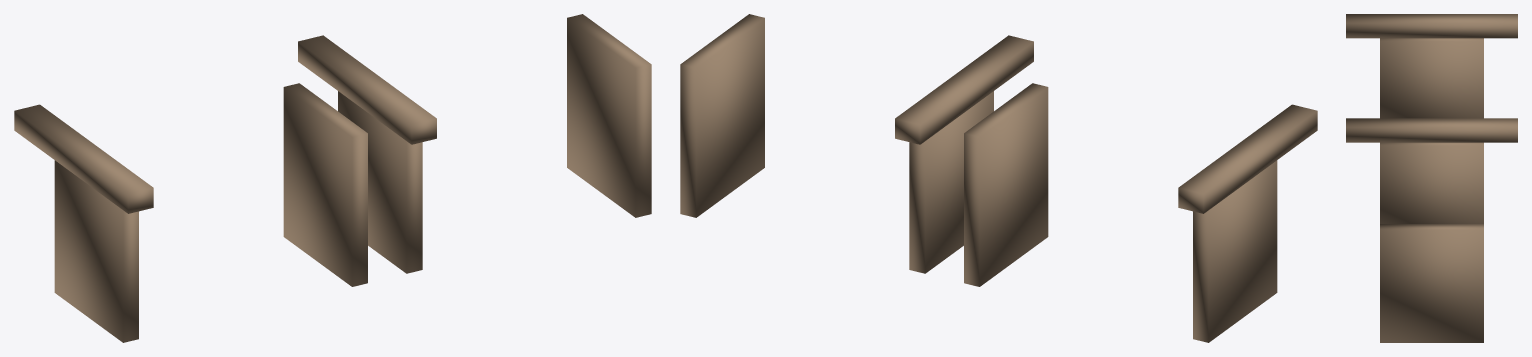
The model's file is luggage_rack__cluster.glb.
3 views of the same model, side by side, from view 1: azimuth 30°, elevation 25°; view 2: azimuth 150°, elevation 25°; view 3: azimuth 270°, elevation 25° (orthographic). The views are drawn at different scales.
Visible parts, largest first — view 1: world; view 2: world; view 3: world.
Part boxes in pixels (left/top/right/bottom): world: left=14, top=14, right=651, bottom=342; world: left=680, top=14, right=1317, bottom=342; world: left=1346, top=14, right=1517, bottom=342.
Bounding box in the file's own units: 1.72 × 0.51 × 0.62.
